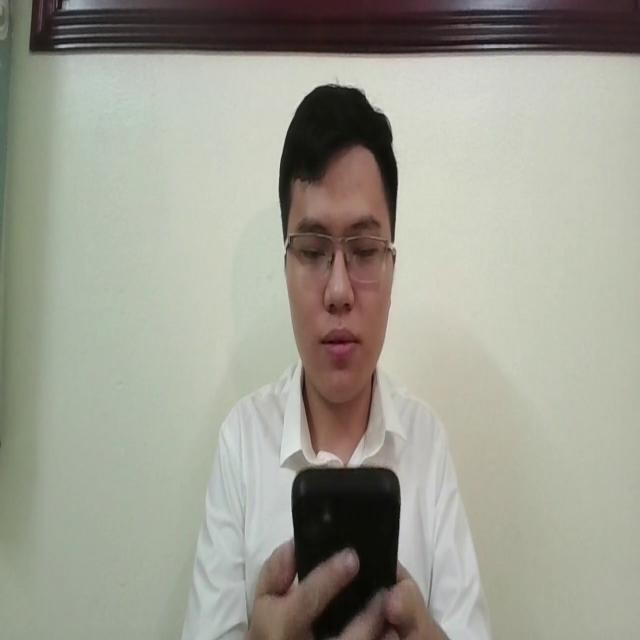phone: (290, 457, 382, 640)
student: (184, 82, 492, 640)
